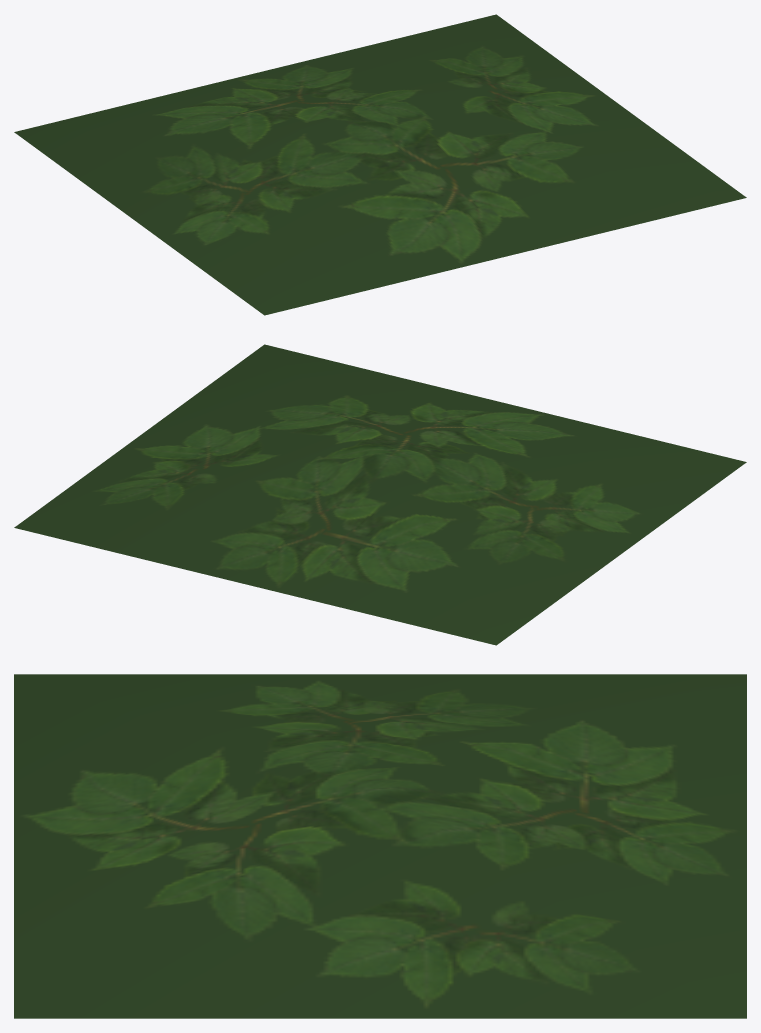
File: Ground_cover29_LOD3.fbx
3 views of the same model, one above another, from view 1: azimuth 30°, elevation 25°; view 2: azimuth 150°, elevation 25°; view 3: azimuth 270°, elevation 25° (orthographic). The views are drawn at different scales.
Visible parts, largest first — view 1: pPlane269; view 2: pPlane269; view 3: pPlane269.
Part boxes in pixels (left/top/right/bottom): pPlane269: left=14, top=14, right=746, bottom=315; pPlane269: left=14, top=344, right=746, bottom=645; pPlane269: left=14, top=674, right=746, bottom=1018.
Size of the model in its own units: 80.65 by 5.92 by 72.55.
